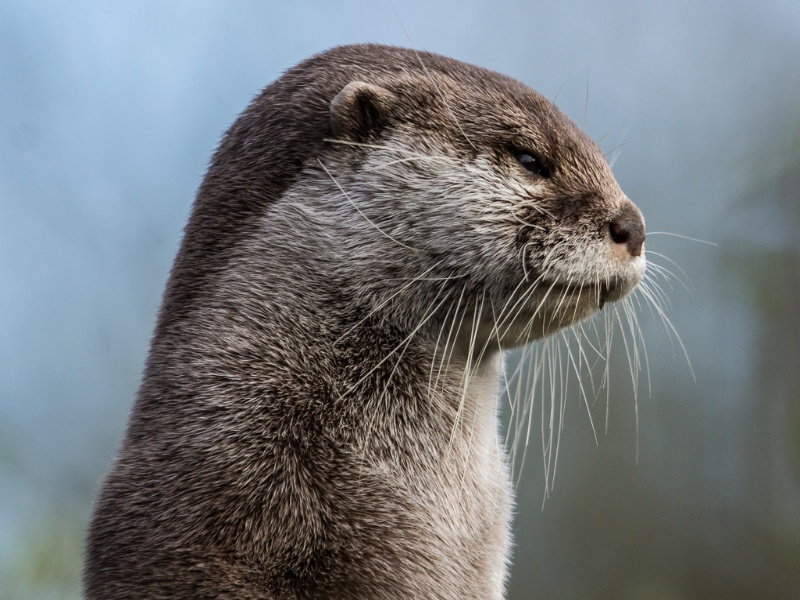minkish: (74, 37, 653, 598)
